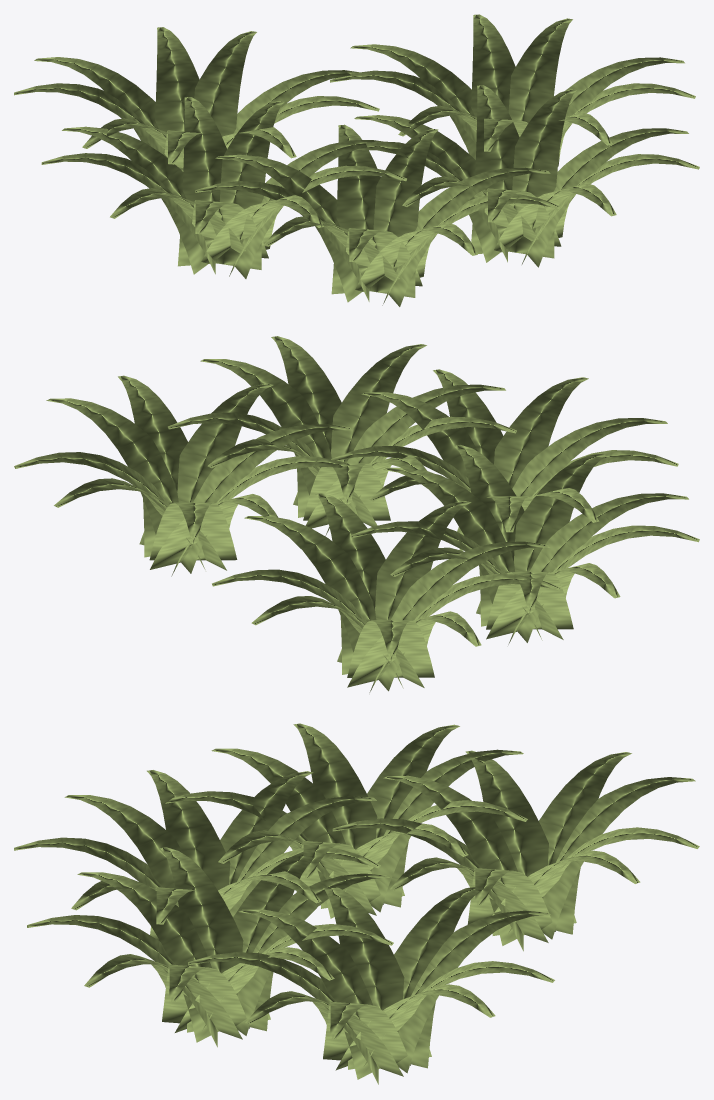
The model's file is water_lettuce_cluster_swamp_and_mangrove_22634.glb.
3 views of the same model, one above another, from view 1: azimuth 30°, elevation 25°; view 2: azimuth 150°, elevation 25°; view 3: azimuth 270°, elevation 25° (orthographic). The views are drawn at different scales.
Parts seen in each view (by area): view 1: water-lettuce; view 2: water-lettuce; view 3: water-lettuce.
Part boxes in pixels (x1=…): water-lettuce: x1=14, y1=14, x2=699, y2=306; water-lettuce: x1=14, y1=336, x2=699, y2=692; water-lettuce: x1=14, y1=723, x2=699, y2=1084.
Size of the model in its own units: 1.25 by 0.2021 by 1.15.
Materials: 1 (1 with a texture image).
